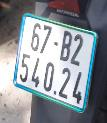0: (40, 60, 56, 95)
2: (68, 31, 87, 70), (57, 65, 74, 102)
4: (70, 69, 87, 107), (28, 56, 46, 91)
5: (17, 51, 33, 85)
6: (27, 21, 45, 53)
7: (36, 23, 56, 58)
B: (58, 28, 75, 64)
